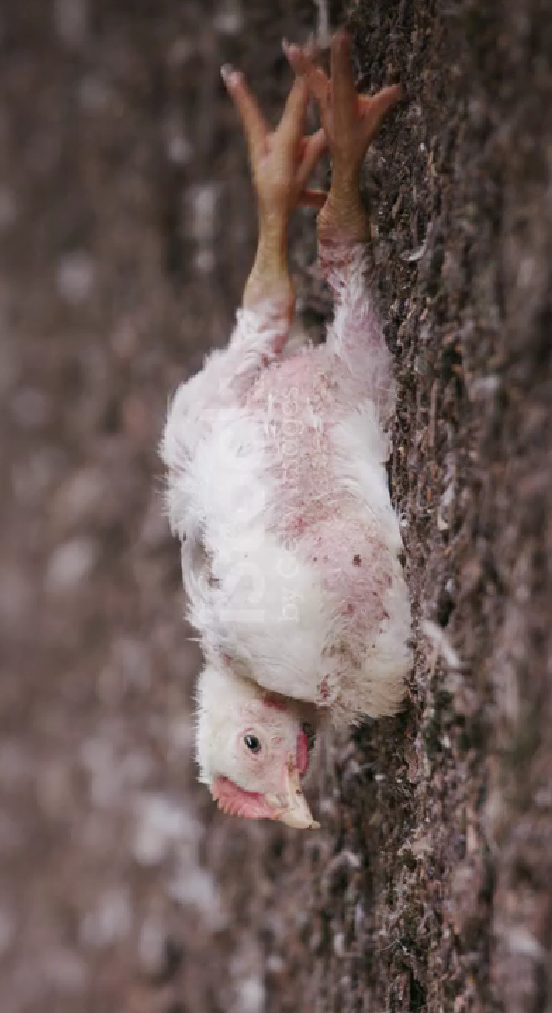Unhealthy: (96, 25, 467, 838)
